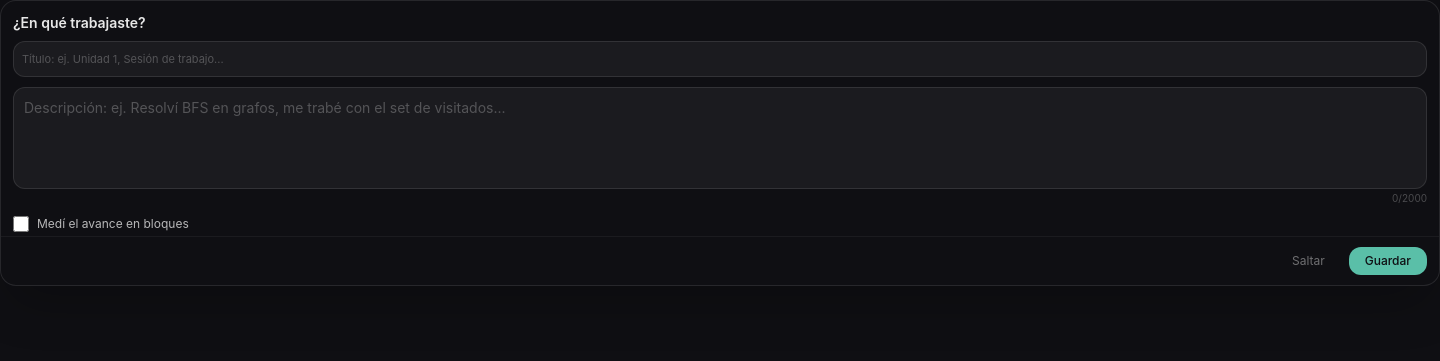
JournalPrompt — con unidad configurada › al tildar el checkbox aparece el stepper arrancando en 1
Click the checkbox labelled "Medí el avance en bloques" at (21, 224), box [13, 216, 29, 232]
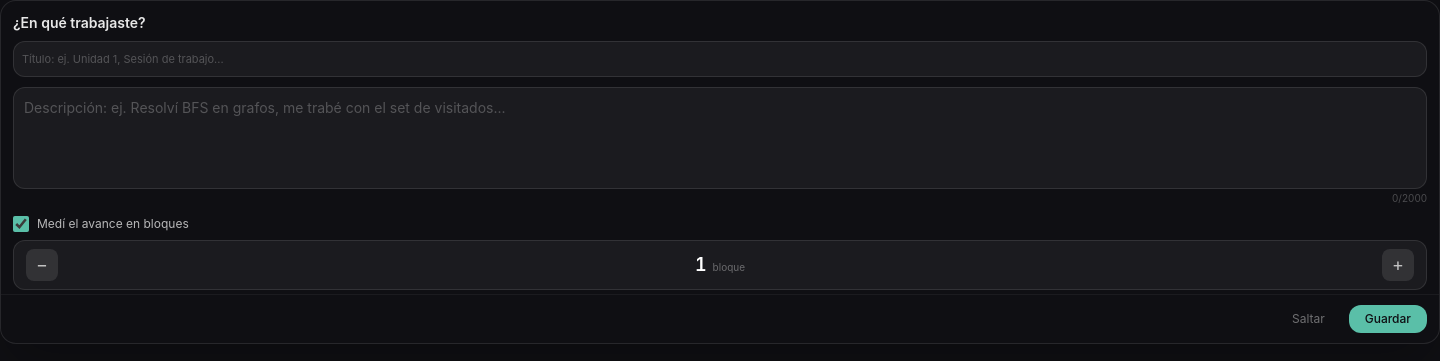
Now the text with test id "unit-value" reads "1", box [695, 254, 707, 275]
